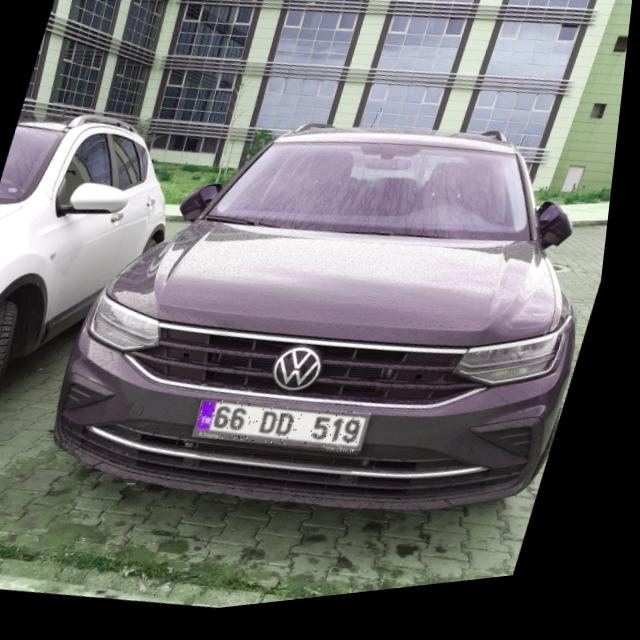license_plate: (199, 390, 386, 477)
